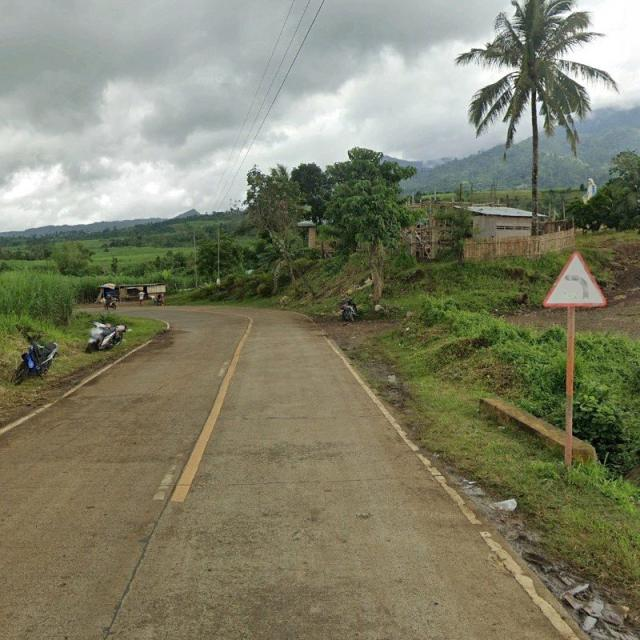warn_left_curve: (541, 250, 607, 308)
